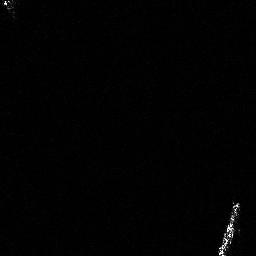ship: (214, 197, 242, 256)
